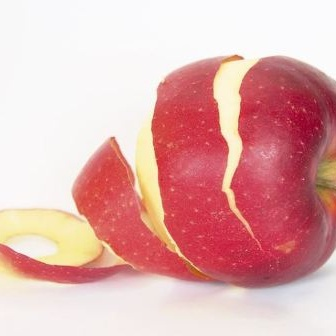apple: (134, 54, 336, 286)
